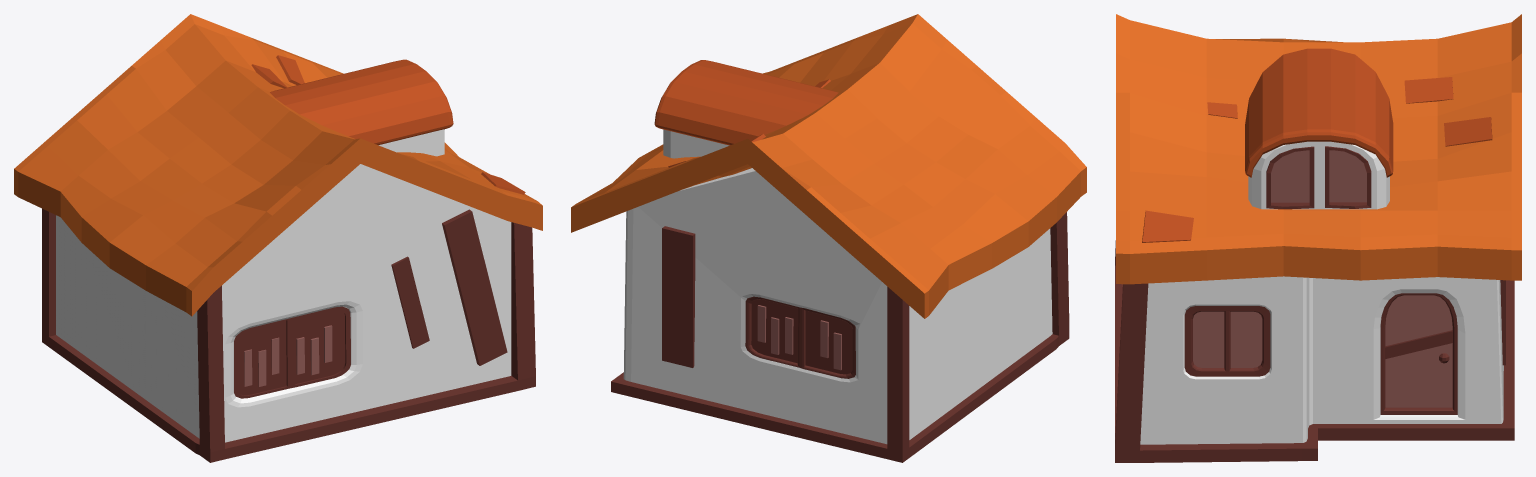
The model's file is House.glb.
The picture shows the model from 3 angles, left to right: view 1: azimuth 30°, elevation 25°; view 2: azimuth 150°, elevation 25°; view 3: azimuth 270°, elevation 25°; orthographic projection. The views are drawn at different scales.
Visible parts, largest first — view 1: Cube.307, Cube.306, Cube.314, Cube.310, Cube.323, Cube.316, Cube.330, Cube.308; view 2: Cube.307, Cube.306, Cube.314, Cube.310, Cube.315, Cube.345, Cube.344, Cube.308; view 3: Cube.307, Cube.306, Cube.314, Cube.310, Cube.312, Cube.339, Cube.340, Cube.308, Cube.341, Cube.342, Cube.311, Cube.333 (+4 smaller).
Boxes of the visible parts, bbox=[...] form: Cube.307: bbox=[14, 14, 542, 316]; Cube.306: bbox=[56, 164, 511, 442]; Cube.314: bbox=[42, 208, 535, 462]; Cube.310: bbox=[270, 59, 453, 145]; Cube.323: bbox=[234, 306, 350, 398]; Cube.316: bbox=[442, 209, 507, 365]; Cube.330: bbox=[391, 256, 429, 348]; Cube.308: bbox=[378, 129, 444, 156]; Cube.307: bbox=[571, 14, 1086, 318]; Cube.306: bbox=[623, 168, 1052, 444]; Cube.314: bbox=[611, 212, 1069, 462]; Cube.310: bbox=[654, 60, 838, 145]; Cube.315: bbox=[662, 226, 695, 367]; Cube.345: bbox=[751, 299, 852, 374]; Cube.344: bbox=[745, 296, 855, 378]; Cube.308: bbox=[663, 129, 729, 158]; Cube.307: bbox=[1116, 14, 1521, 284]; Cube.306: bbox=[1140, 276, 1503, 444]; Cube.314: bbox=[1115, 240, 1514, 462]; Cube.310: bbox=[1245, 48, 1393, 177]; Cube.312: bbox=[1385, 295, 1452, 407]; Cube.339: bbox=[1271, 150, 1366, 202]; Cube.340: bbox=[1193, 311, 1262, 367]; Cube.308: bbox=[1248, 141, 1389, 209]; Cube.341: bbox=[1184, 306, 1270, 376]; Cube.342: bbox=[1380, 293, 1457, 414]; Cube.311: bbox=[1266, 146, 1371, 209]; Cube.333: bbox=[1142, 210, 1193, 242].
Bounding box in the file's own units: 17.67 × 13.5 × 14.34.
